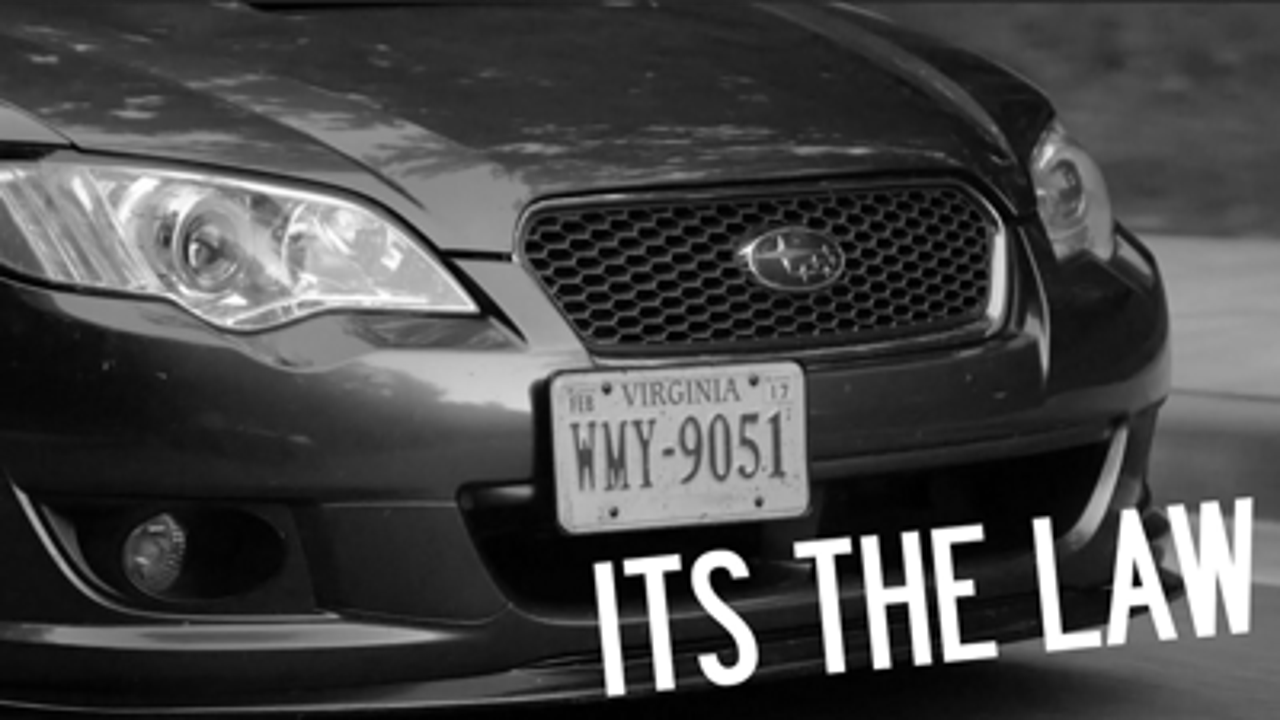license: (539, 356, 822, 536)
